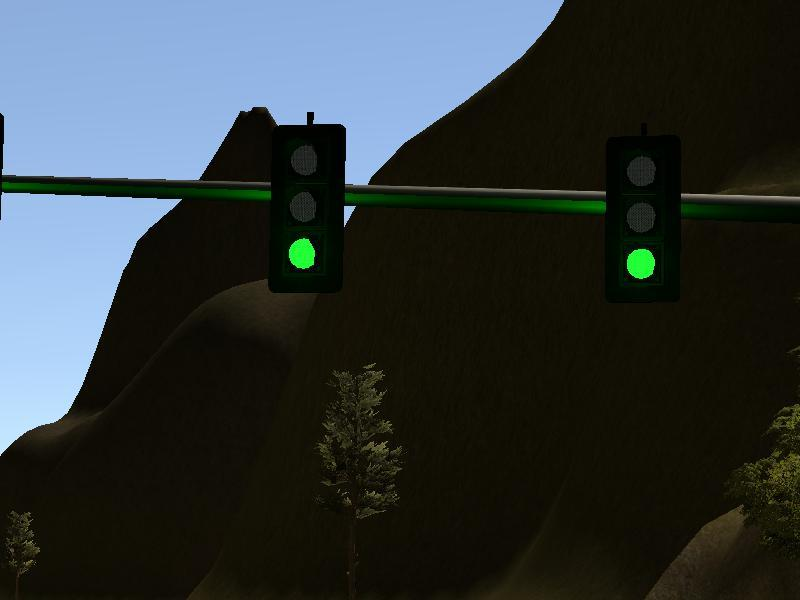Green: (608, 136, 677, 301), (276, 125, 338, 288)
